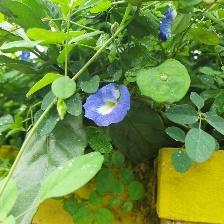shankupushpam: (84, 81, 134, 128)
